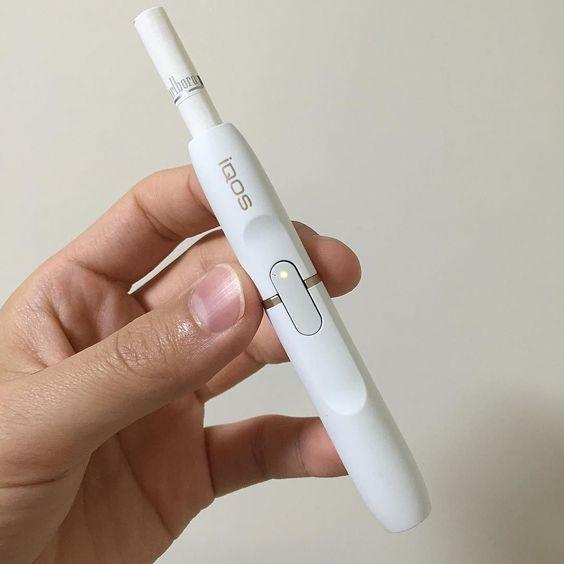iqos: (135, 8, 429, 530)
